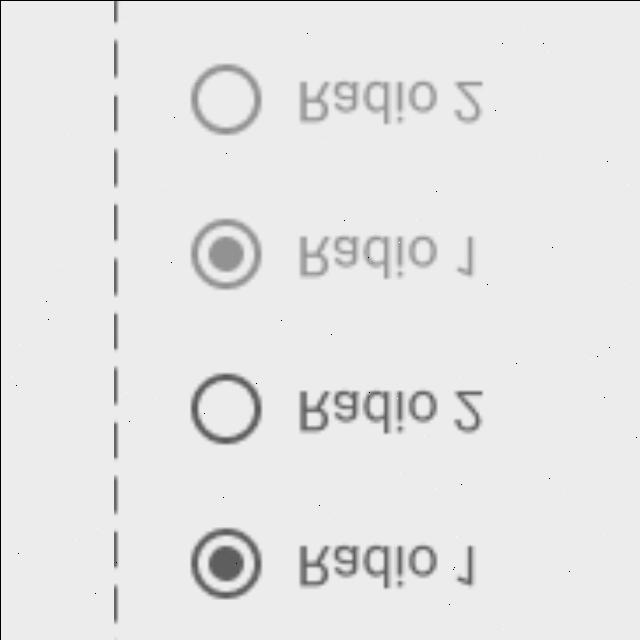QLabel: (297, 226, 481, 282), (295, 536, 479, 590), (296, 74, 487, 126), (296, 384, 486, 434)
VRadio: (186, 522, 262, 602), (188, 214, 262, 292), (188, 62, 264, 136), (186, 374, 262, 446)
